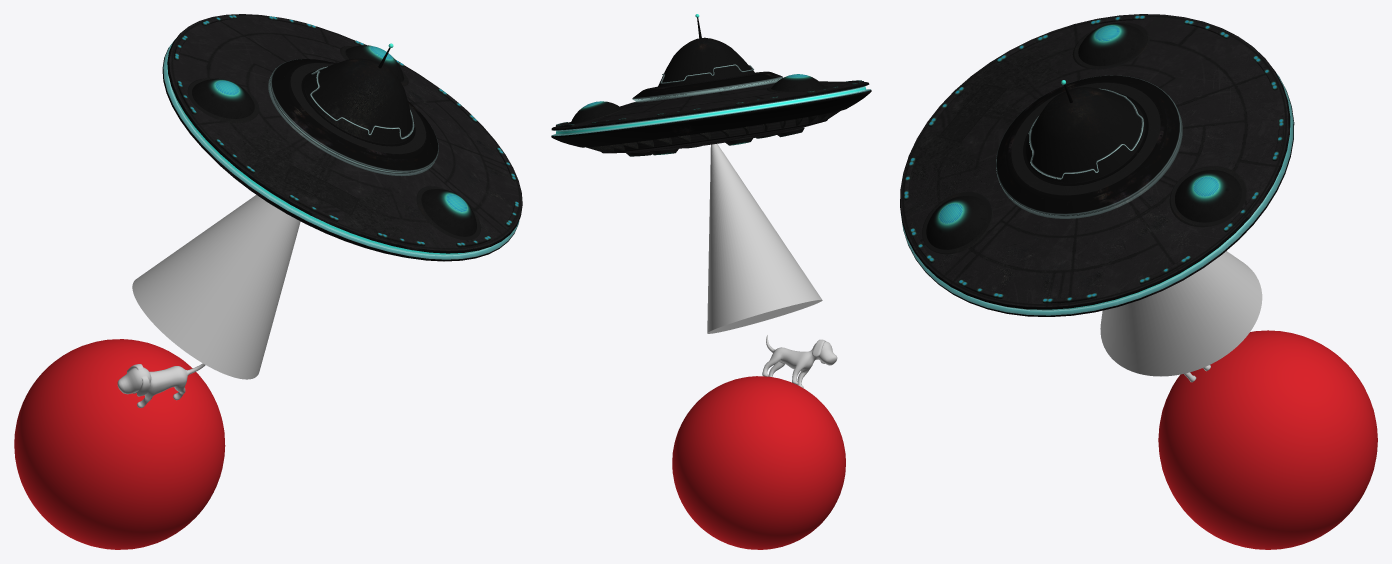
The model's file is abduction.gltf.
The picture shows the model from 3 angles, left to right: view 1: azimuth 30°, elevation 25°; view 2: azimuth 150°, elevation 25°; view 3: azimuth 270°, elevation 25°; orthographic projection. The views are drawn at different scales.
Visible parts, largest first — view 1: node_id34, mesh_id27, mesh_id39, mesh_id29; view 2: mesh_id27, node_id34, mesh_id39, mesh_id29; view 3: node_id34, mesh_id27, mesh_id39.
Boxes of the visible parts, x1=… form: node_id34: x1=162, y1=14, x2=522, y2=261; mesh_id27: x1=14, y1=339, x2=225, y2=549; mesh_id39: x1=132, y1=195, x2=300, y2=379; mesh_id29: x1=117, y1=363, x2=205, y2=407; mesh_id27: x1=672, y1=376, x2=845, y2=549; node_id34: x1=551, y1=14, x2=871, y2=156; mesh_id39: x1=707, y1=144, x2=822, y2=333; mesh_id29: x1=762, y1=335, x2=837, y2=388; node_id34: x1=900, y1=14, x2=1294, y2=316; mesh_id27: x1=1158, y1=330, x2=1377, y2=549; mesh_id39: x1=1100, y1=251, x2=1262, y2=376.
Size of the model in its own units: 0.3439 by 0.4394 by 0.3477.
